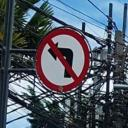NoVirarEsquerda: (36, 29, 90, 91)
